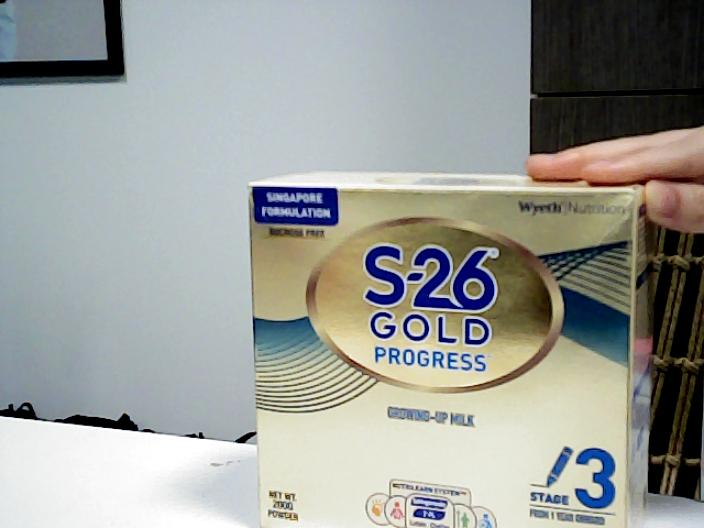Babymilk-powder_200-299g_Halal_NonHealthy: (257, 188, 633, 528)
